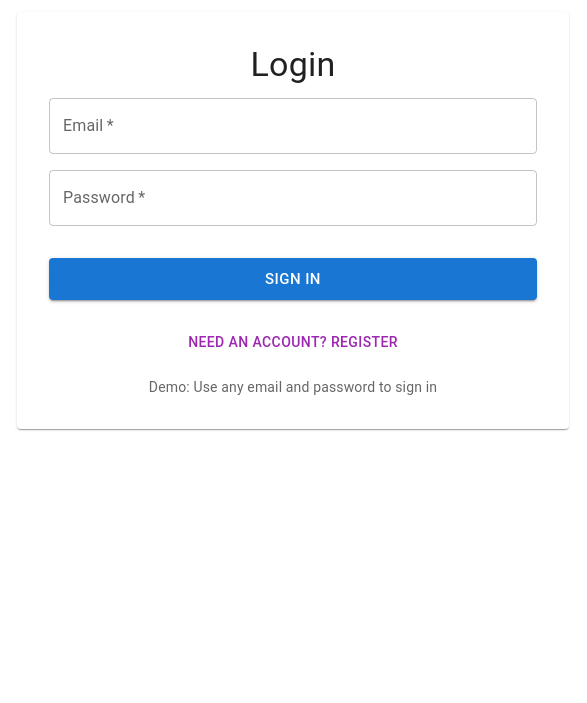
Test case: Login Page › should prevent registration with invalid password
Note: Switch to register mode
Click the button "Need an account? Register" at (293, 342), box [49, 324, 537, 361]
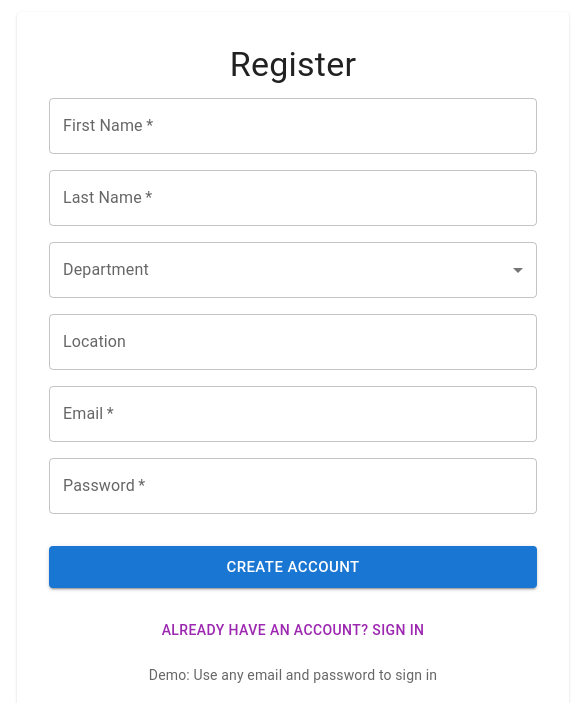
Note: Fill in form with invalid password
Type "New" into the field labelled "First Name *" at (293, 126), box [49, 98, 537, 154]
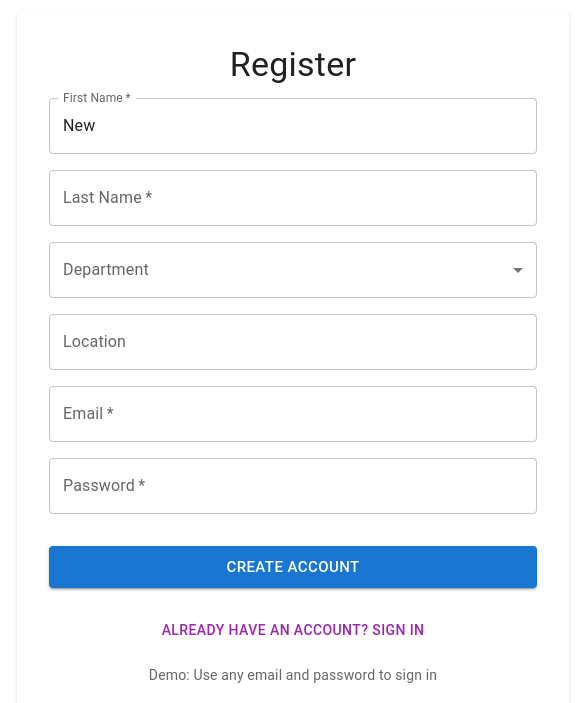
Type "User" into the field labelled "Last Name *" at (293, 198), box [49, 170, 537, 226]
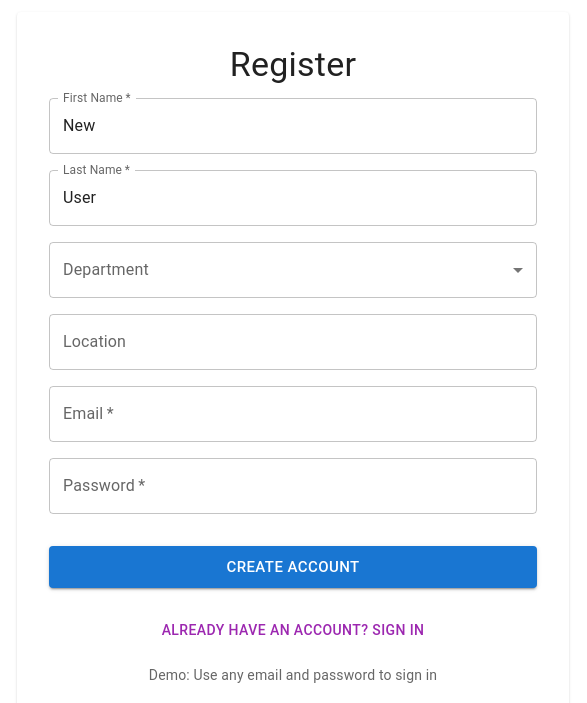
Type "newuser@pwc.com" into the field labelled "Email *" at (293, 414), box [49, 386, 537, 442]
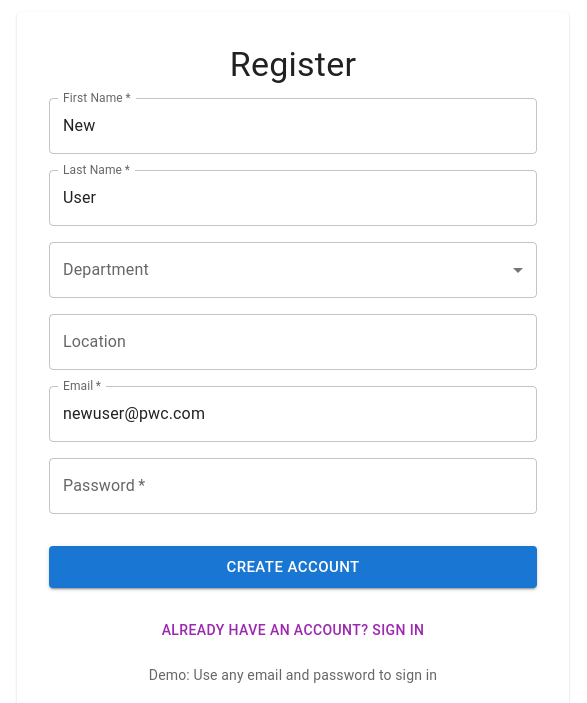
Type "weak" into the password field labelled "Password *" at (293, 486), box [49, 458, 537, 514]
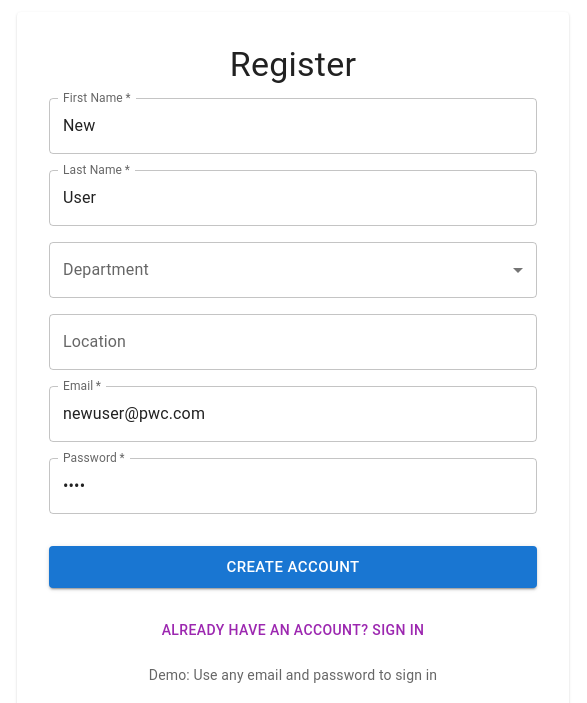
Click the button "Create Account" at (293, 567), box [49, 546, 537, 588]
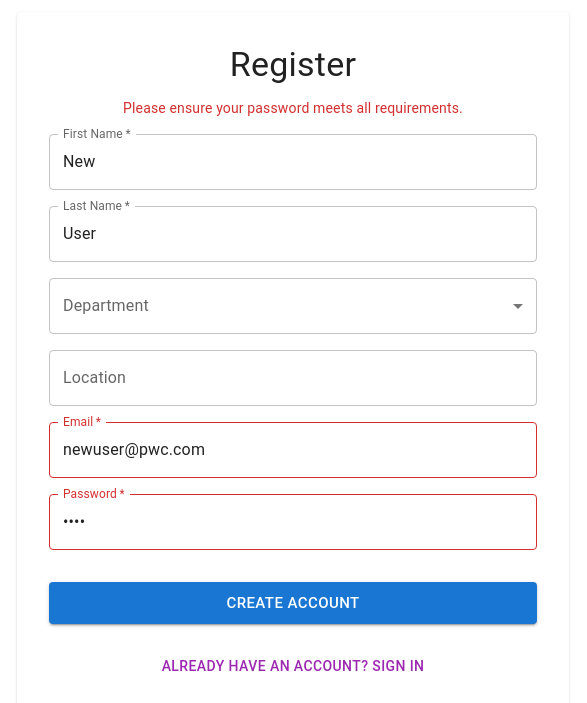
expect the text "Please ensure your password meets all requirements." is shown: met, box [123, 100, 463, 116]
